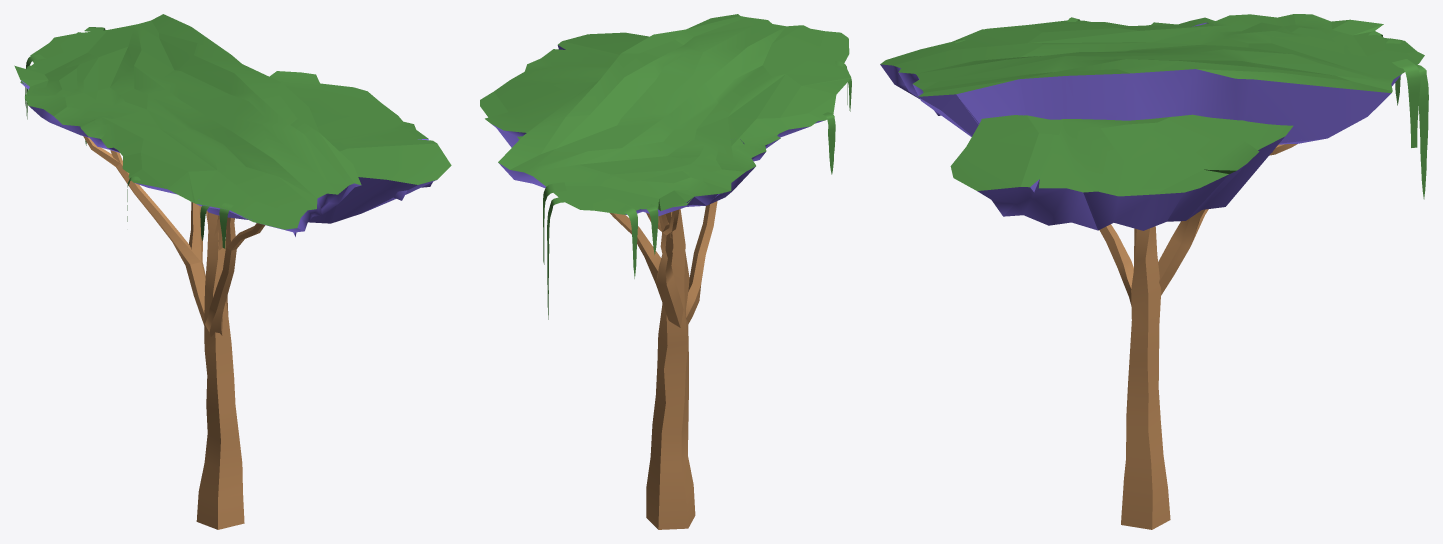
The model's file is tree_A_canopy_A_E_solo.fbx.
The picture shows the model from 3 angles, left to right: view 1: azimuth 30°, elevation 25°; view 2: azimuth 150°, elevation 25°; view 3: azimuth 270°, elevation 25°; orthographic projection. The views are drawn at different scales.
Parts seen in each view (by area): view 1: tree_A_canopy_A_E_holed, tree_A_canopy_A_E, tree_B_canopy_B, tree_E_canopy_trunk_A, tree_E_canopy_trunk_G, tree_E_canopy_trunk_C; view 2: tree_A_canopy_A_E_holed, tree_A_canopy_A_E, tree_E_canopy_trunk_A, tree_B_canopy_B, tree_E_canopy_trunk_G, tree_E_canopy_trunk_C, tree_A_canopy_A_E_liana_C; view 3: tree_A_canopy_A_E_holed, tree_B_canopy_B, tree_A_canopy_A_E, tree_E_canopy_trunk_A, tree_E_canopy_trunk_G, tree_A_canopy_A_E_liana_A, tree_E_canopy_trunk_C, tree_A_canopy_A_E_liana_B.
Boxes of the visible parts, x1,y1,x2,y2 form: tree_A_canopy_A_E_holed: (20, 18, 361, 236); tree_A_canopy_A_E: (14, 14, 360, 231); tree_B_canopy_B: (207, 71, 451, 223); tree_E_canopy_trunk_A: (196, 212, 244, 529); tree_E_canopy_trunk_G: (83, 136, 205, 325); tree_E_canopy_trunk_C: (205, 217, 265, 336); tree_A_canopy_A_E_holed: (506, 14, 850, 214); tree_A_canopy_A_E: (498, 20, 849, 216); tree_E_canopy_trunk_A: (646, 209, 695, 529); tree_B_canopy_B: (480, 32, 649, 147); tree_E_canopy_trunk_G: (610, 209, 683, 327); tree_E_canopy_trunk_C: (686, 201, 717, 324); tree_A_canopy_A_E_liana_C: (619, 205, 637, 278); tree_A_canopy_A_E_holed: (880, 14, 1424, 143); tree_B_canopy_B: (950, 114, 1293, 230); tree_A_canopy_A_E: (880, 14, 1418, 144); tree_E_canopy_trunk_A: (1121, 226, 1170, 529); tree_E_canopy_trunk_G: (1158, 144, 1297, 295); tree_A_canopy_A_E_liana_A: (1416, 64, 1428, 199); tree_E_canopy_trunk_C: (1099, 224, 1133, 306); tree_A_canopy_A_E_liana_B: (1392, 59, 1420, 147).
Size of the model in its own units: 465 by 655 by 685.
